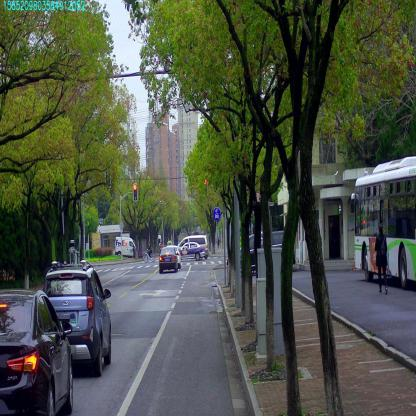traffic-light: (133, 183, 137, 201), (204, 178, 208, 194)
